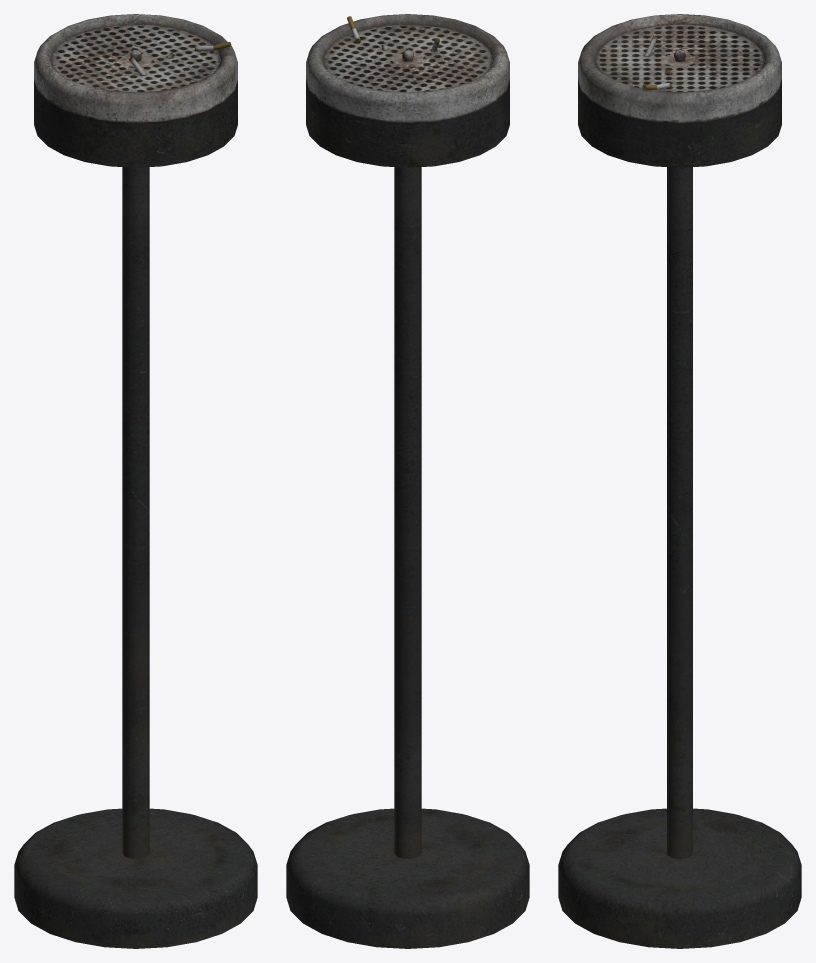
File: 110_Ashtray.fbx
The picture shows the model from 3 angles, left to right: view 1: azimuth 30°, elevation 25°; view 2: azimuth 150°, elevation 25°; view 3: azimuth 270°, elevation 25°; orthographic projection.
Parts seen in each view (by area): view 1: LOD_1_Group_0_Sub_1__sm30_110_AshTray01A_A_Mat1; view 2: LOD_1_Group_0_Sub_1__sm30_110_AshTray01A_A_Mat1; view 3: LOD_1_Group_0_Sub_1__sm30_110_AshTray01A_A_Mat1.
Boxes of the visible parts, <box> form: LOD_1_Group_0_Sub_1__sm30_110_AshTray01A_A_Mat1: <box>14,14,257,948</box>; LOD_1_Group_0_Sub_1__sm30_110_AshTray01A_A_Mat1: <box>286,14,529,948</box>; LOD_1_Group_0_Sub_1__sm30_110_AshTray01A_A_Mat1: <box>558,14,801,948</box>.
Size of the model in its own units: 0.1998 by 0.7735 by 0.1998.
